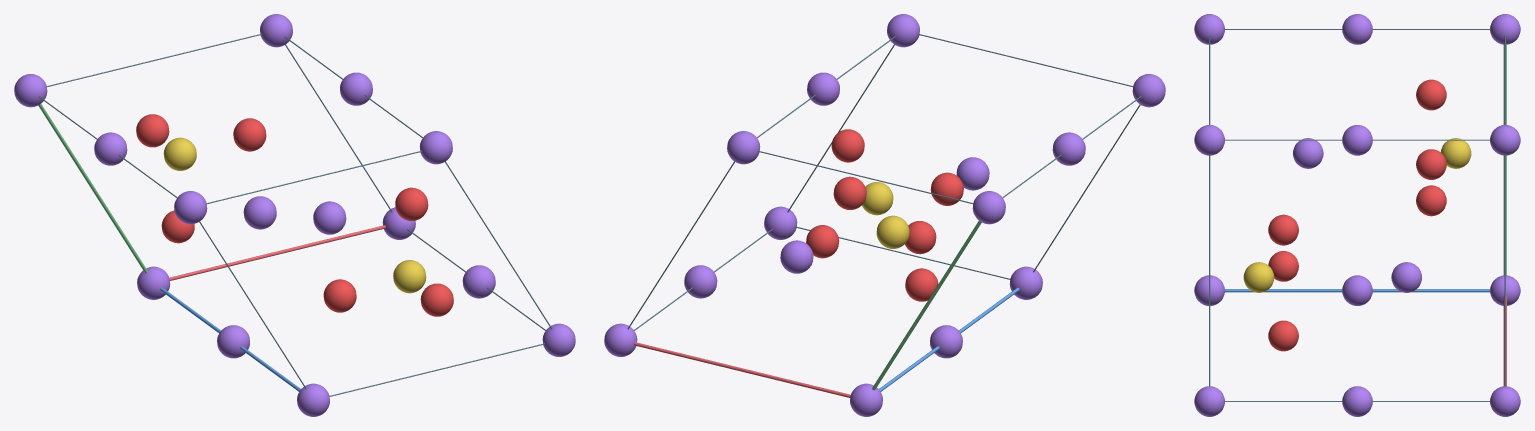
File: chat-sodium-sulfite.glb
The picture shows the model from 3 angles, left to right: view 1: azimuth 30°, elevation 25°; view 2: azimuth 150°, elevation 25°; view 3: azimuth 270°, elevation 25°; orthographic projection. The views are drawn at different scales.
Visible parts, largest first — view 1: Na1 · Na · 1 (×8), Ô mạng và các trục a, b, c, O1 · O · 1 (×6), Na2 · Na · 1 (×4), Na3 · Na · 1 (×2), S1 · S · 1 (×2); view 2: Na1 · Na · 1 (×8), Ô mạng và các trục a, b, c, O1 · O · 1 (×6), Na2 · Na · 1 (×4), Na3 · Na · 1 (×2), S1 · S · 1 (×2); view 3: Na1 · Na · 1 (×8), O1 · O · 1 (×6), Ô mạng và các trục a, b, c, Na2 · Na · 1 (×4), Na3 · Na · 1 (×2), S1 · S · 1 (×2).
Boxes of the visible parts, x1,y1,x2,y2 form: Na1 · Na · 1 (×8): (14,14,575,416); Ô mạng và các trục a, b, c: (38,33,552,396); O1 · O · 1 (×6): (136,114,453,316); Na2 · Na · 1 (×4): (94,72,495,358); Na3 · Na · 1 (×2): (243,196,346,234); S1 · S · 1 (×2): (163,137,426,293); Na1 · Na · 1 (×8): (604,14,1165,416); Ô mạng và các trục a, b, c: (627,33,1141,397); O1 · O · 1 (×6): (806,129,963,301); Na2 · Na · 1 (×4): (684,72,1085,358); Na3 · Na · 1 (×2): (780,157,989,273); S1 · S · 1 (×2): (862,182,909,248); Na1 · Na · 1 (×8): (1194,14,1520,416); O1 · O · 1 (×6): (1268,79,1446,351); Ô mạng và các trục a, b, c: (1209,29,1506,401); Na2 · Na · 1 (×4): (1342,14,1372,416); Na3 · Na · 1 (×2): (1293,138,1421,292); S1 · S · 1 (×2): (1243,138,1471,292).
Bounding box in the file's own units: 8.8 × 5.35 × 6.77.
